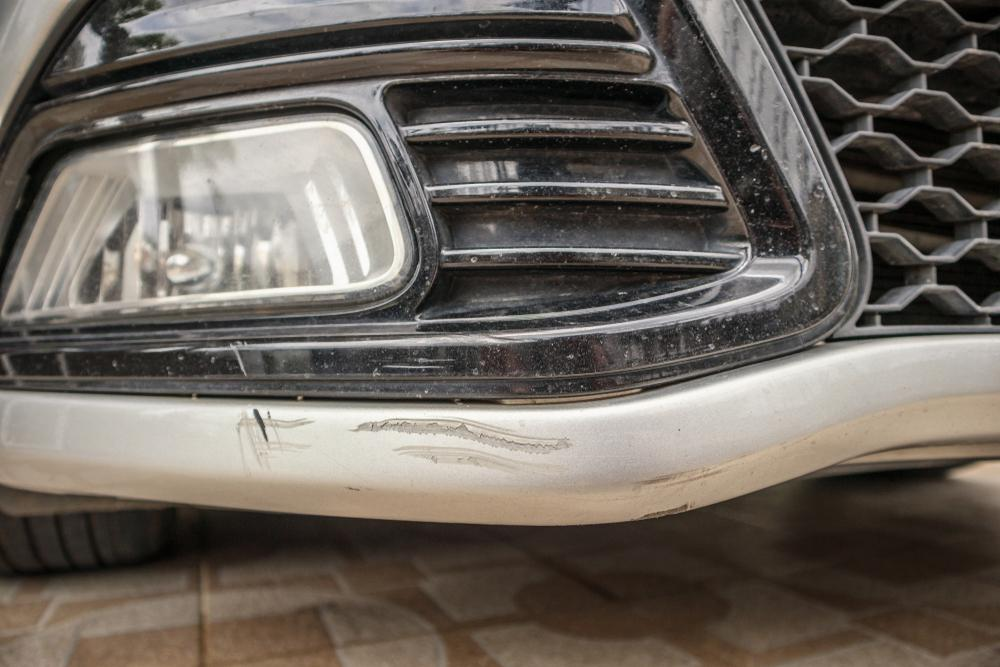scratch: (236, 411, 589, 479)
